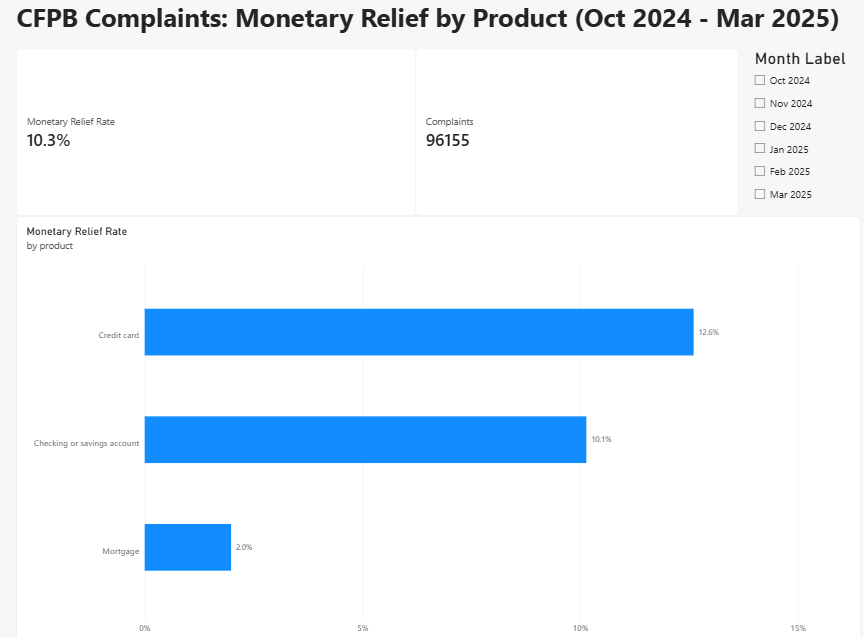

Layout of this report page (visuals, bound fields, positions):
{"tool":"powerbi","page":{"name":"Monetary Relief","canvas":[1920,1080],"ordinal":0},"visuals":[{"type":"clusteredBarChart","fields":{"Category":["dim_product.product"],"Y":["fct_complaints.Monetary Relief Rate"]},"box":[256.8,361.4,1406.8,718.2],"z":0},{"type":"cardVisual","fields":{"Data":["fct_complaints.Complaints"]},"box":[922.7,81.8,538.6,279.5],"z":1},{"type":"cardVisual","fields":{"Data":["fct_complaints.Monetary Relief Rate"]},"box":[256.8,81.8,665.9,279.5],"z":2},{"type":"slicer","fields":{"Values":["dim_date.month_label"]},"box":[1479.5,93.2,184.1,261.4],"z":3},{"type":"textbox","box":[256.8,0,1406.8,52.3],"z":4}]}

Visuals, with their boxes on the page's 1920x1080 design canvas (x1, y1, x2, y2). These are canvas units, not pixel positions in the 864x637 screenshot, which may show the page scaled, cropped or inside an application window:
clusteredBarChart - dim_product.product x fct_complaints.Monetary Relief Rate: x1=257, y1=361, x2=1664, y2=1080
cardVisual - fct_complaints.Complaints: x1=923, y1=82, x2=1461, y2=361
cardVisual - fct_complaints.Monetary Relief Rate: x1=257, y1=82, x2=923, y2=361
slicer - dim_date.month_label: x1=1480, y1=93, x2=1664, y2=355
textbox: x1=257, y1=0, x2=1664, y2=52
